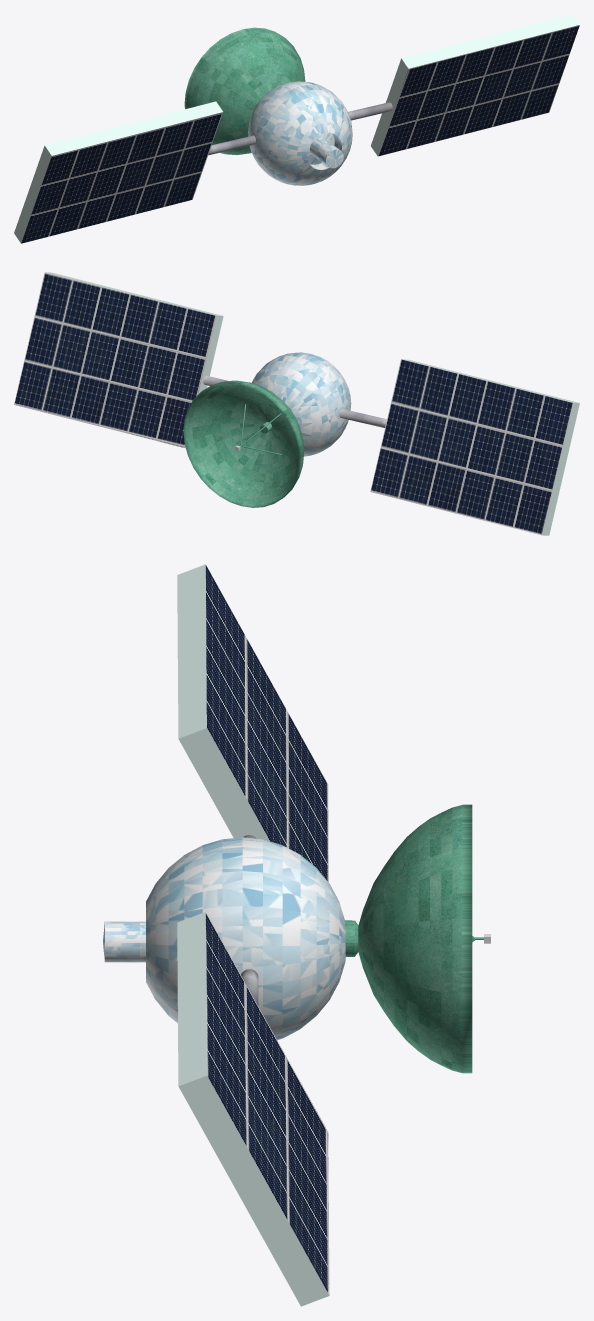
File: defender.gltf
3 views of the same model, one above another, from view 1: azimuth 30°, elevation 25°; view 2: azimuth 150°, elevation 25°; view 3: azimuth 270°, elevation 25° (orthographic). The views are drawn at different scales.
Parts seen in each view (by area): view 1: Cube.001, Cube, Sphere, Cone, Cylinder.001, Cylinder; view 2: Cube.001, Cube, Cone, Sphere, Cylinder.001; view 3: Cube, Sphere, Cube.001, Cone.
Boxes of the visible parts, x1,y1,x2,y2 form: Cube.001: (14,101,222,243); Cube: (371,14,579,156); Sphere: (248,81,352,185); Cone: (184,27,305,155); Cylinder.001: (208,135,255,155); Cylinder: (348,102,392,120); Cube.001: (370,359,579,535); Cube: (14,272,223,448); Cone: (183,380,304,507); Sphere: (252,352,351,456); Cylinder.001: (339,409,386,427); Cube: (177,912,329,1306); Sphere: (103,837,345,1040); Cube.001: (177,564,328,882); Cone: (358,804,472,1073).
Size of the model in its own units: 16.82 by 3.71 by 5.36.
12 materials, 12 textured.
